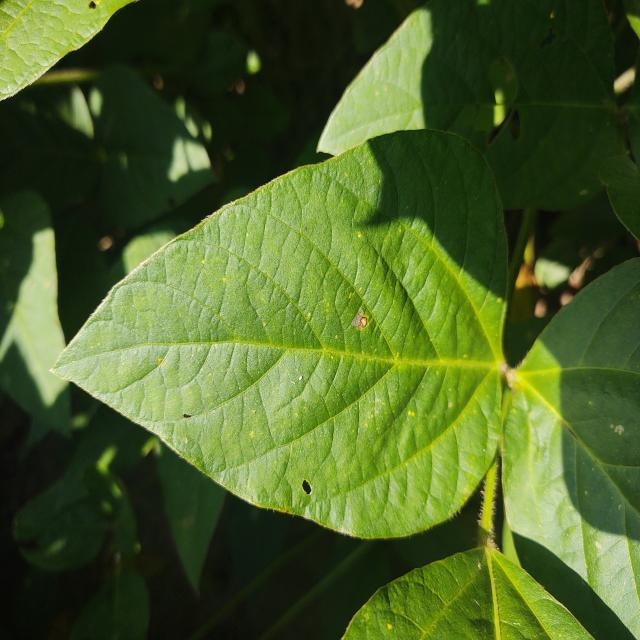Soybean: (0, 0, 640, 640)
downey_mildew: (388, 368, 474, 478), (241, 245, 319, 350), (104, 231, 181, 311), (509, 365, 578, 433), (0, 1, 49, 74), (525, 597, 600, 639), (487, 58, 522, 148), (66, 0, 118, 42), (362, 391, 403, 441), (371, 353, 483, 371), (343, 281, 378, 333), (496, 351, 529, 393), (393, 609, 435, 636), (250, 498, 304, 516), (477, 522, 498, 555), (465, 616, 495, 635), (539, 28, 557, 49), (49, 539, 66, 555), (609, 423, 625, 435), (301, 479, 312, 495), (89, 0, 102, 11), (183, 412, 192, 419), (595, 541, 602, 549), (496, 297, 503, 304), (157, 357, 163, 365), (550, 11, 556, 19), (387, 623, 393, 630), (477, 562, 482, 570), (6, 85, 12, 91), (375, 398, 381, 404), (448, 401, 453, 408), (250, 431, 254, 439), (262, 322, 267, 328), (357, 232, 362, 238), (463, 354, 469, 359), (618, 504, 623, 510), (610, 423, 615, 429), (399, 227, 403, 234), (358, 287, 362, 293), (416, 123, 420, 129), (222, 277, 226, 283), (364, 422, 368, 428), (304, 226, 308, 232), (584, 490, 588, 496), (246, 232, 250, 237), (272, 508, 276, 513), (201, 259, 205, 264)
